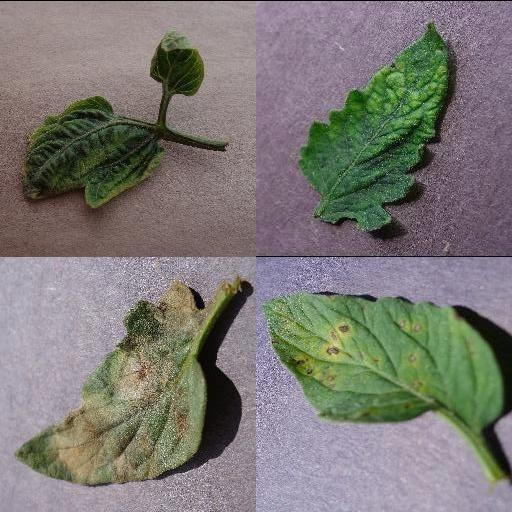Late Blight: (10, 277, 208, 487)
Mosaic Virus: (297, 21, 451, 231)
Septoria: (261, 290, 505, 424)
Yellow Leaf Curl Virus: (20, 94, 166, 212), (147, 29, 205, 99)
